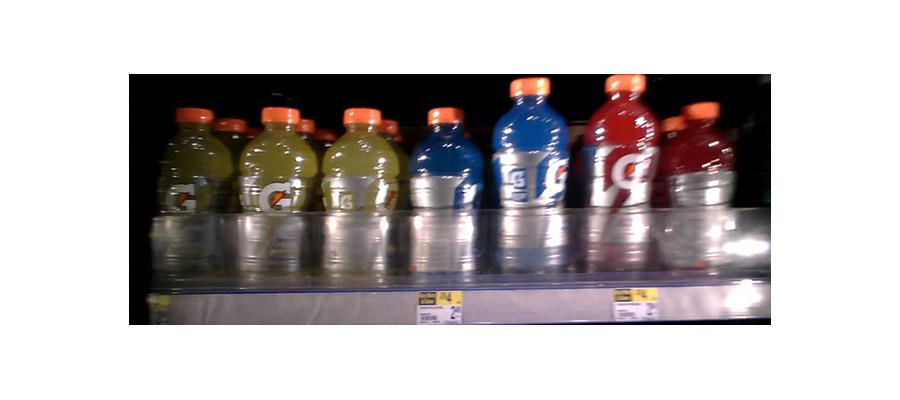bottle: (489, 75, 573, 283), (579, 72, 661, 281), (405, 101, 480, 290), (319, 105, 397, 286), (150, 107, 228, 286), (234, 106, 310, 287), (660, 101, 733, 279)
